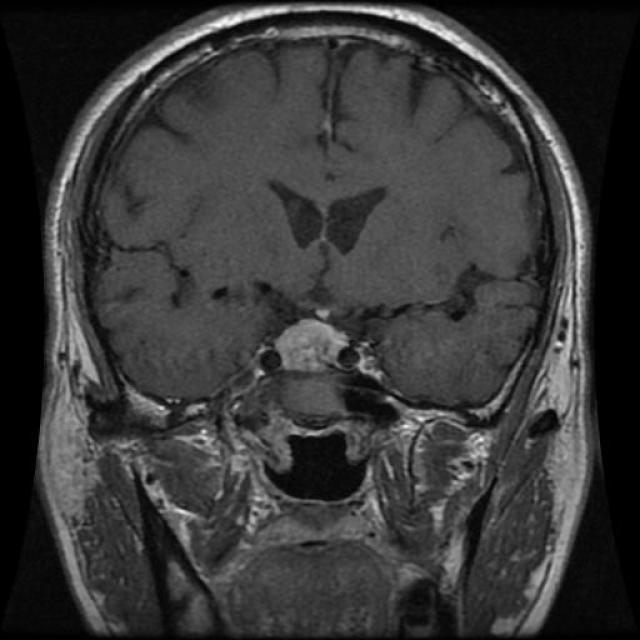pituitary: (267, 302, 387, 394)
